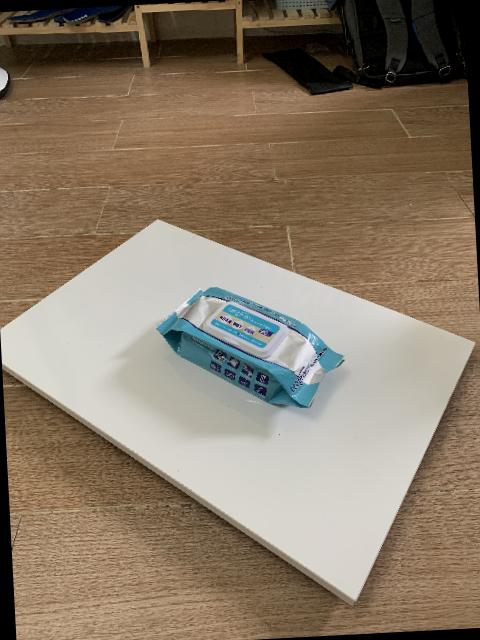Let-green_alcohol_wipes: (156, 287, 345, 409)
